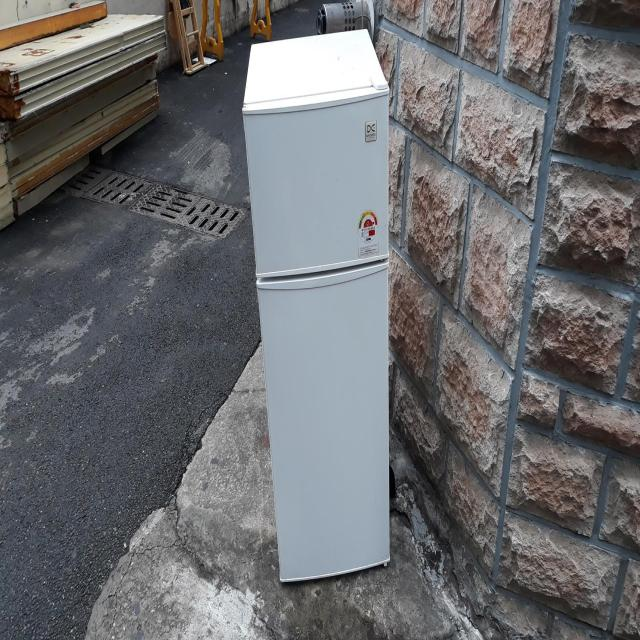refrigerator: (242, 21, 393, 584)
